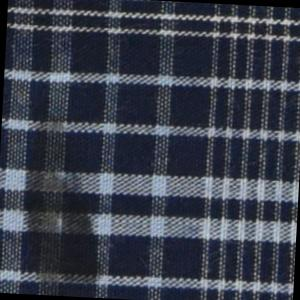Stain: (14, 100, 117, 299)
